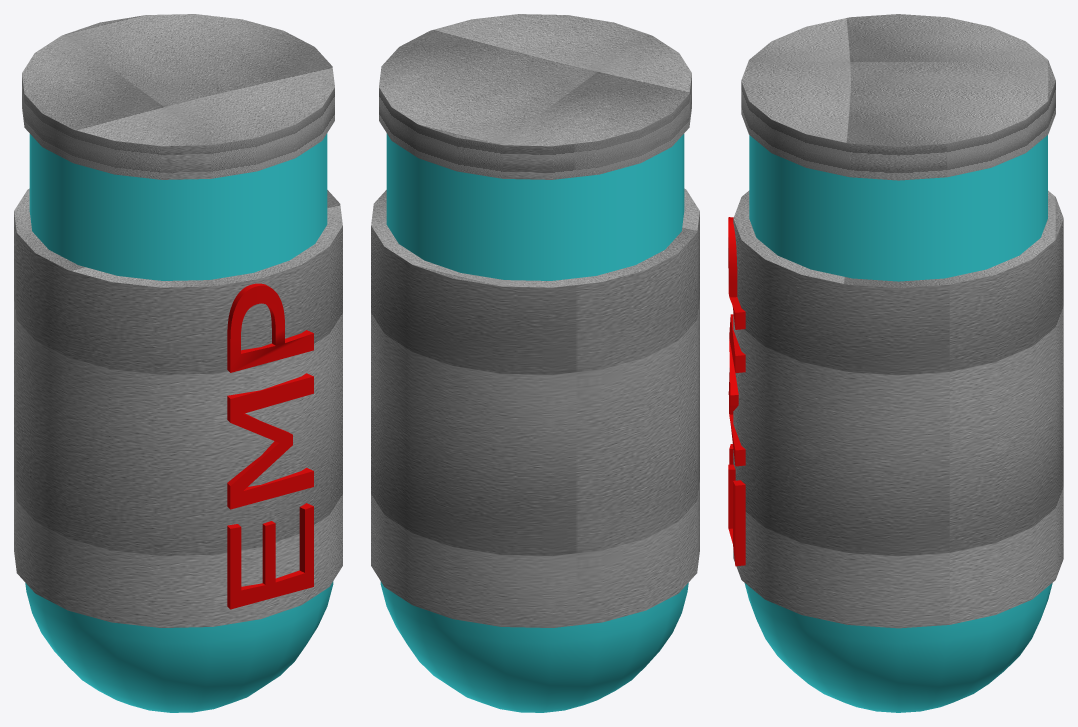
Rendered from EmpGrenade1.0.fbx.
3 views of the same model, side by side, from view 1: azimuth 30°, elevation 25°; view 2: azimuth 150°, elevation 25°; view 3: azimuth 270°, elevation 25° (orthographic).
Visible parts, largest first — view 1: LargeCylinde, SmallCylinderLid, SmallCylinder, BottomHalfCircle, EmpText; view 2: LargeCylinde, SmallCylinderLid, SmallCylinder, BottomHalfCircle; view 3: LargeCylinde, SmallCylinderLid, SmallCylinder, BottomHalfCircle, EmpText.
Boxes of the visible parts, x1,y1,x2,y2 form: LargeCylinde: [14, 188, 342, 627]; SmallCylinderLid: [22, 14, 334, 179]; SmallCylinder: [29, 133, 327, 280]; BottomHalfCircle: [25, 581, 333, 712]; EmpText: [227, 283, 313, 609]; LargeCylinde: [371, 188, 699, 627]; SmallCylinderLid: [379, 14, 691, 179]; SmallCylinder: [386, 133, 684, 280]; BottomHalfCircle: [380, 581, 688, 712]; LargeCylinde: [733, 190, 1063, 628]; SmallCylinderLid: [741, 14, 1055, 180]; SmallCylinder: [749, 135, 1047, 281]; BottomHalfCircle: [744, 583, 1052, 712]; EmpText: [728, 217, 745, 566].
Size of the model in its own units: 2.1 by 4.33 by 2.13.
